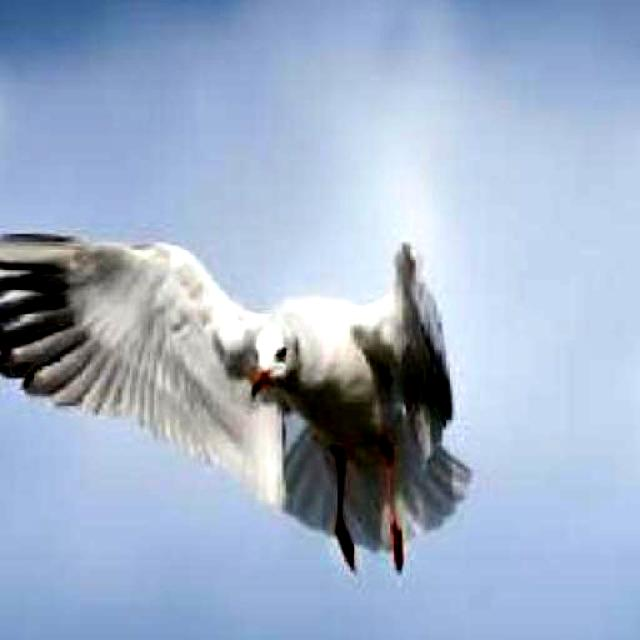airplane: (0, 229, 474, 578)
